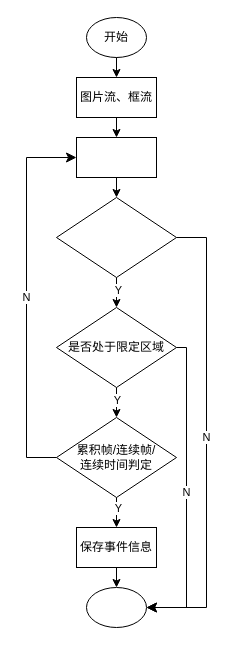
Some shapes in this 234 by 645 pixel diagram are drawn without their labels. The shapes that lost their labels are listed below. From the top down, each one's centre as x and y in pixels, then its label:
point 116,157: 取一帧图片及对应框
point 116,237: 是否敏感事件
point 116,607: 结束
